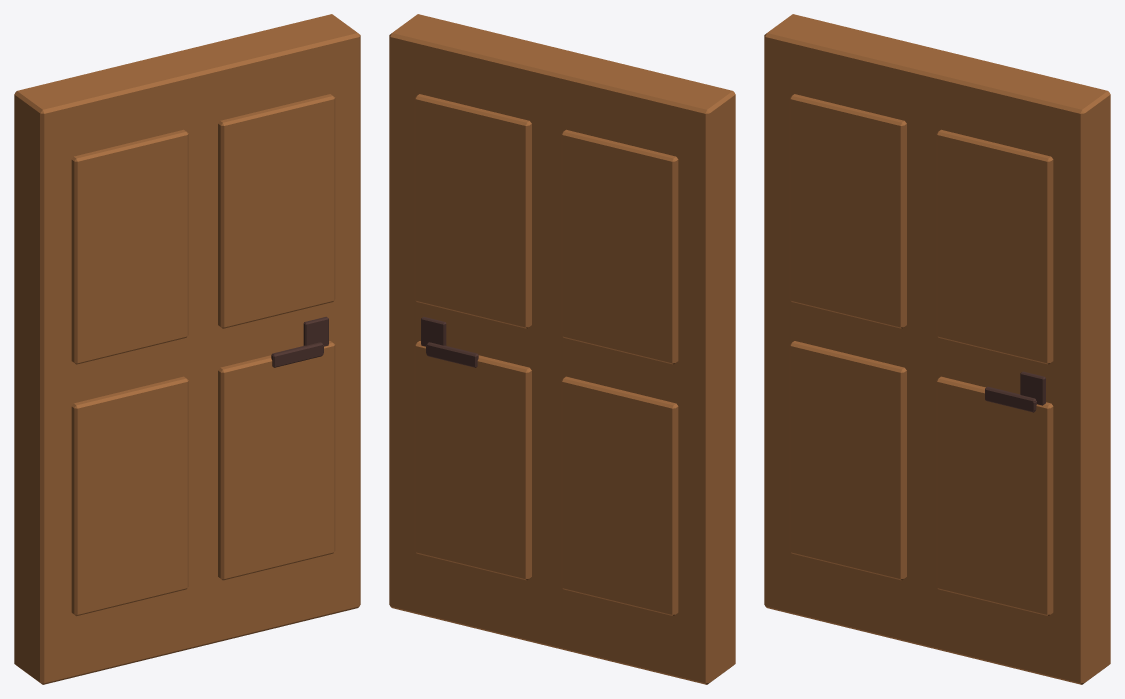
File: door.glb
The picture shows the model from 3 angles, left to right: view 1: azimuth 30°, elevation 25°; view 2: azimuth 150°, elevation 25°; view 3: azimuth 330°, elevation 25°; orthographic projection.
Visible parts, largest first — view 1: door; view 2: door; view 3: door.
Boxes of the visible parts, x1,y1,x2,y2 form: door: (14, 14, 360, 684); door: (389, 14, 735, 684); door: (764, 14, 1110, 684).
Size of the model in its own units: 1.4 by 2.4 by 0.3.
Materials: 1 (1 with a texture image).
